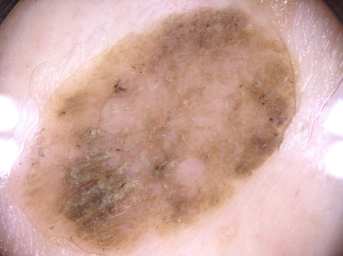seborrheic keratosis: (11, 4, 320, 252)
